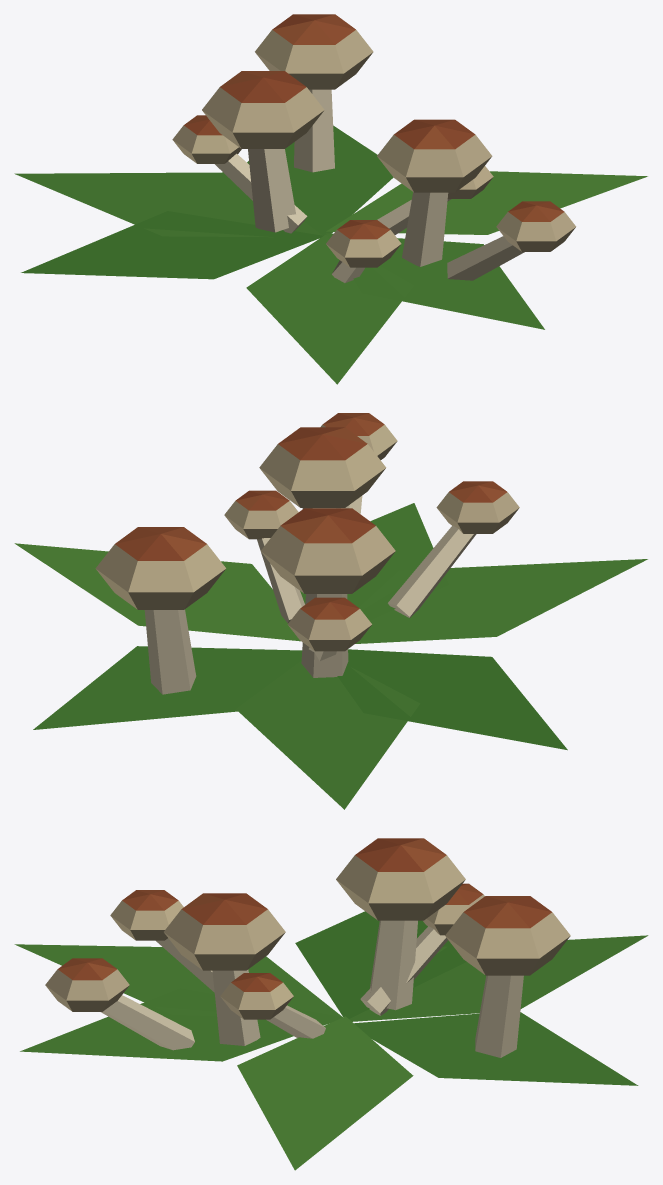
The model's file is storage_mushroom.glb.
The picture shows the model from 3 angles, top to bottom: view 1: azimuth 30°, elevation 25°; view 2: azimuth 150°, elevation 25°; view 3: azimuth 270°, elevation 25°; orthographic projection. The views are drawn at different scales.
Visible parts, largest first — view 1: storage_mushroom; view 2: storage_mushroom; view 3: storage_mushroom.
Part boxes in pixels (x1,y1,x2,y2): storage_mushroom: [14, 14, 647, 384]; storage_mushroom: [14, 413, 647, 809]; storage_mushroom: [14, 838, 648, 1170].
Size of the model in its own units: 1.63 by 0.4244 by 1.5.
